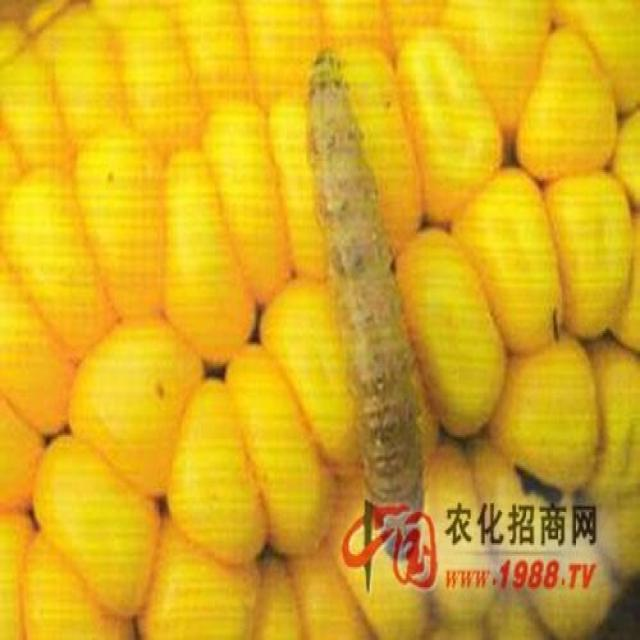peach borer: (307, 50, 437, 559)
